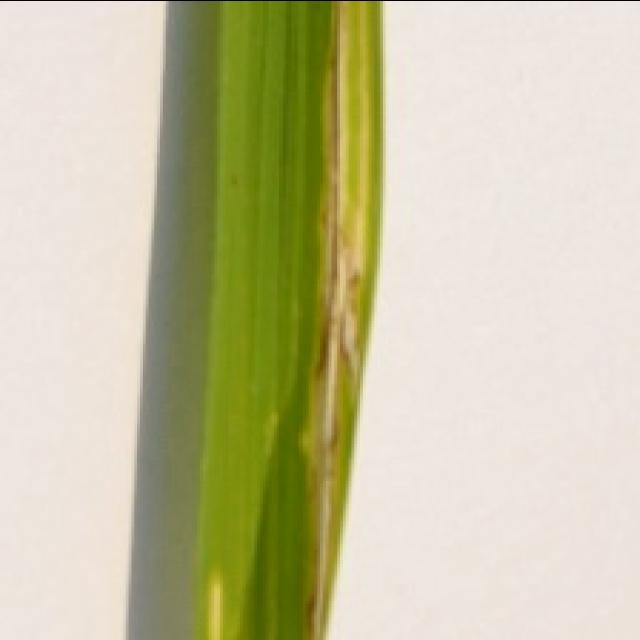Unhealthy: (299, 0, 371, 640), (209, 575, 223, 640)
